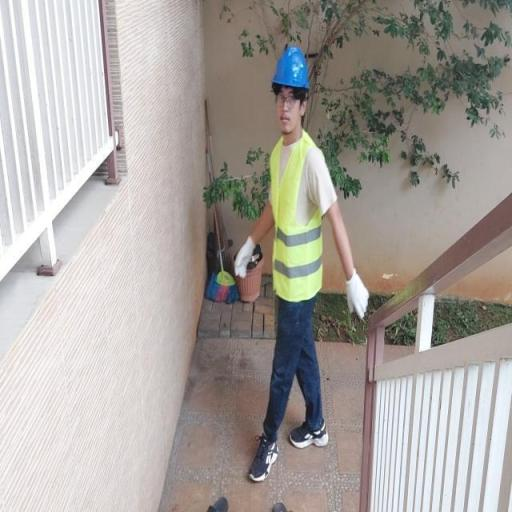Person: (230, 40, 370, 490)
boots: (287, 408, 333, 454), (238, 434, 282, 482)
gloves: (336, 273, 382, 325), (223, 237, 262, 285)
helmet: (268, 48, 318, 89)
vest: (256, 125, 322, 304)
